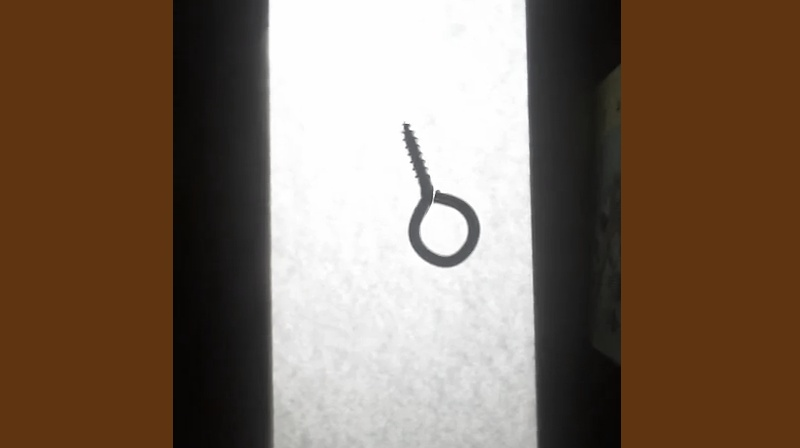O001: (398, 118, 483, 272)
